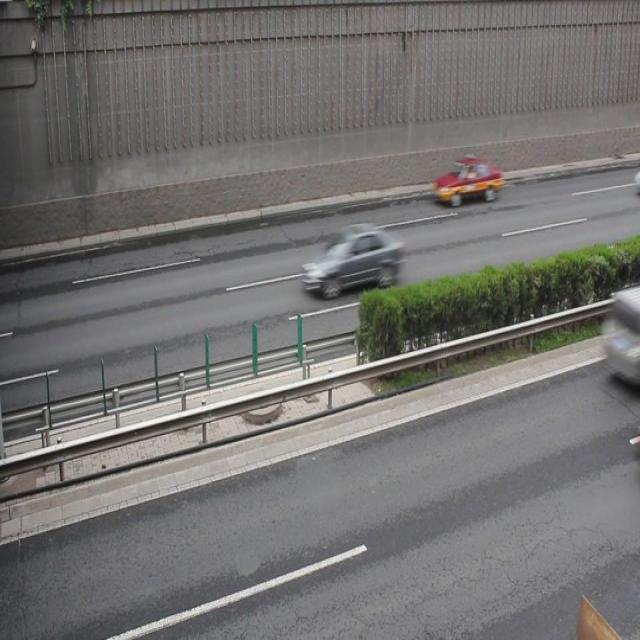car: (302, 222, 402, 298), (433, 154, 502, 206)
